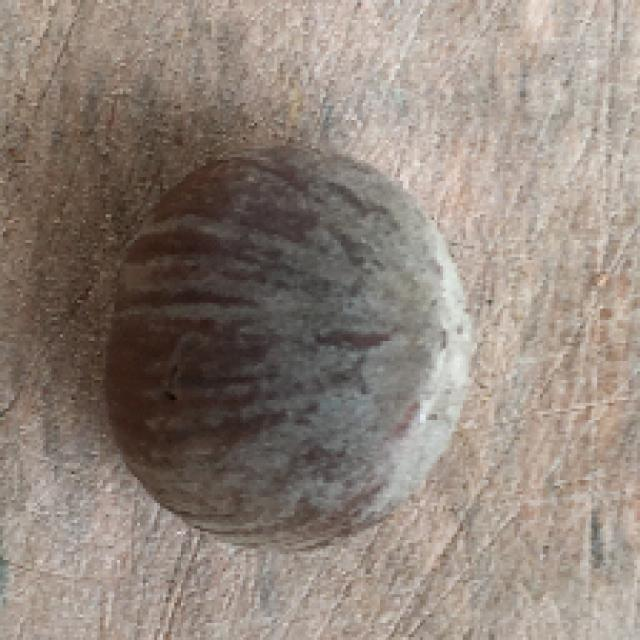damagedHazelnut: (96, 138, 479, 568)
